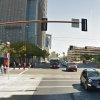Traffic light: (34, 13, 94, 39)
